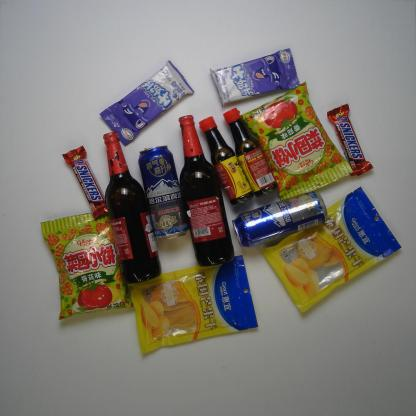Alcohol: (172, 114, 237, 267), (101, 131, 163, 286), (232, 190, 330, 248), (137, 143, 190, 241)
Candy: (97, 59, 194, 148), (210, 47, 301, 108)
Chocolate: (60, 144, 112, 221), (326, 101, 375, 178)
Dried Fruit: (262, 186, 403, 314), (128, 255, 260, 356)
Puffed Food: (240, 81, 354, 201), (40, 212, 135, 322)
Seasoner: (221, 108, 279, 199), (197, 116, 254, 207)
